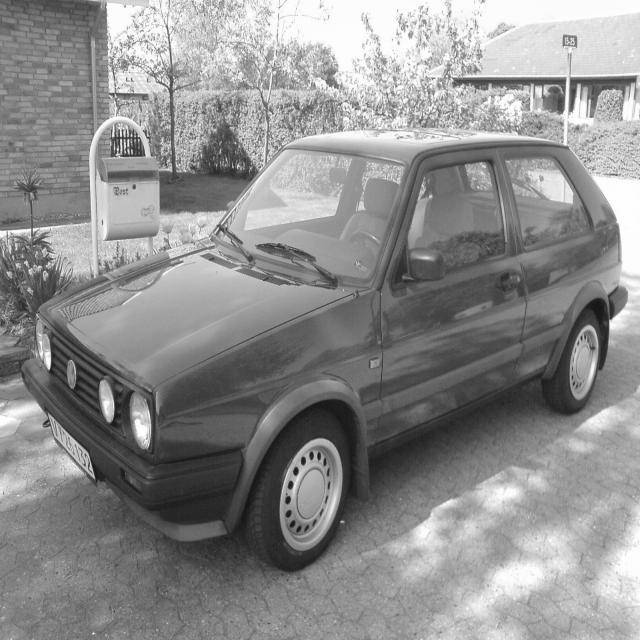car: (20, 127, 628, 572)
plat_license: (46, 410, 98, 484)
